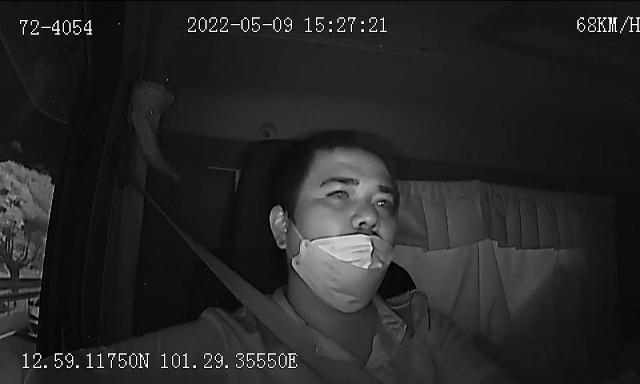SafeDriving: (320, 180, 357, 206), (368, 188, 398, 214)
Seatbelt: (168, 218, 378, 384)
